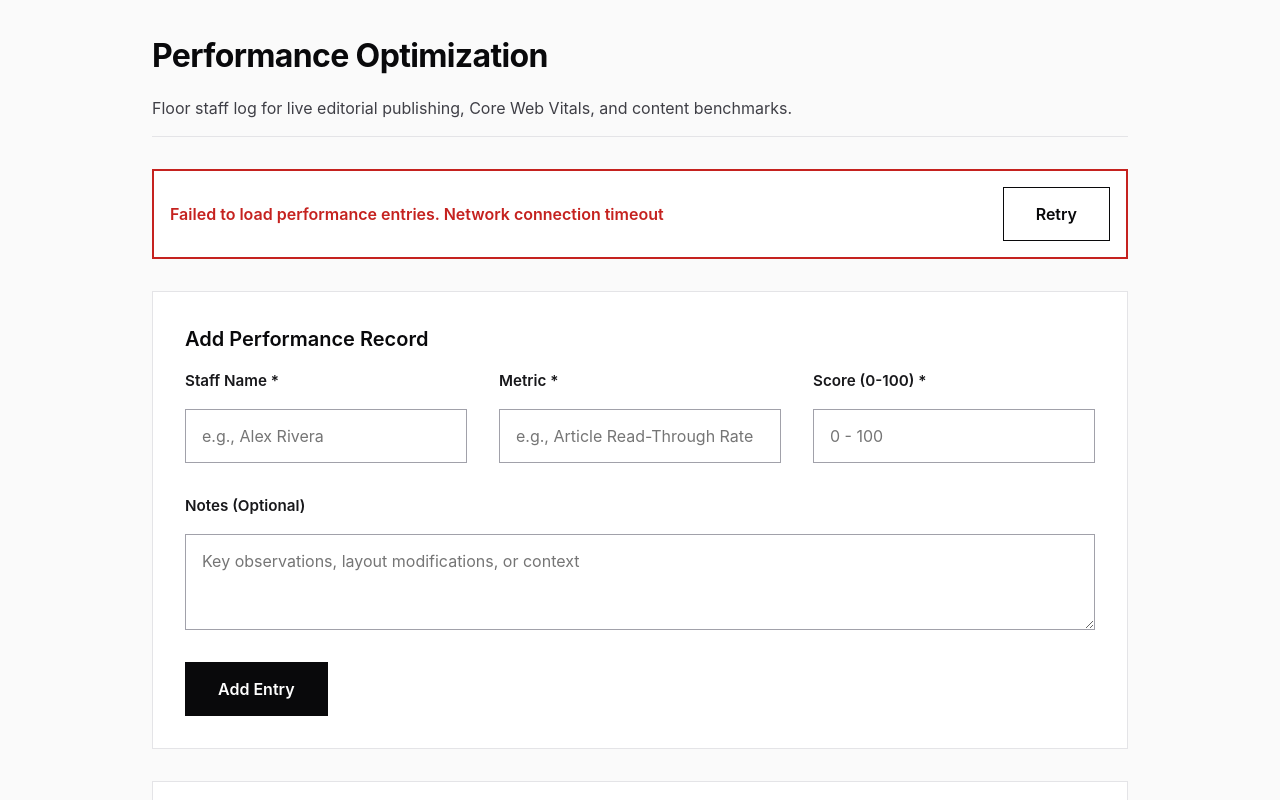
PerformanceOptimization Component › 3. Bad Connectivity › shows an alert with a Retry button if initial loading fails, and recovers on retry
Expected: the message "Failed to load performance entries. Network connection timeout Retry" is shown, [152,169,1128,259]
Expected: the message reads "Failed to load performance entries. Network connection timeout Retry", [170,204,444,224]
Click the button "Retry".
click(1056, 214)  # box [1003,187,1110,241]
(page scrolled)
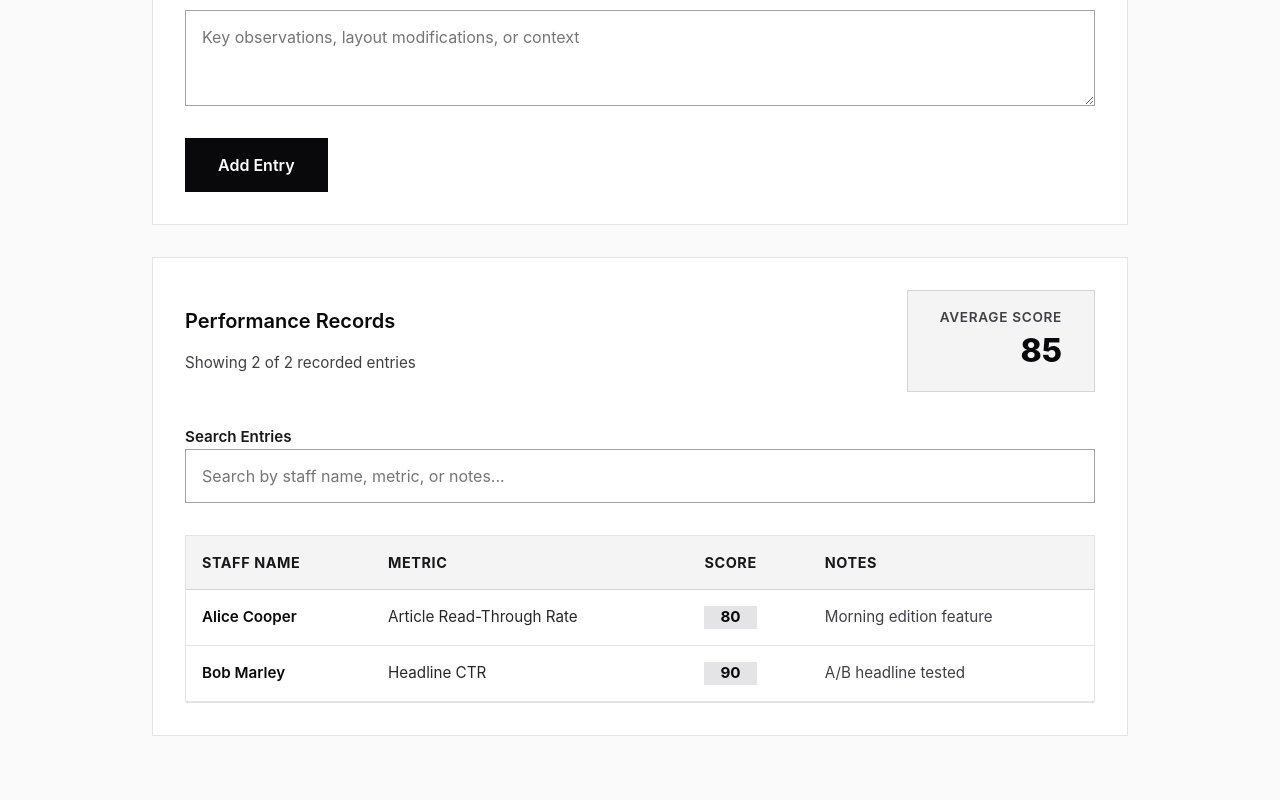
Expected: the text "Alice Cooper" is shown, [186,590,372,646]
Expected: the message "Failed to load performance entries. Network connection timeout Retry" is gone
